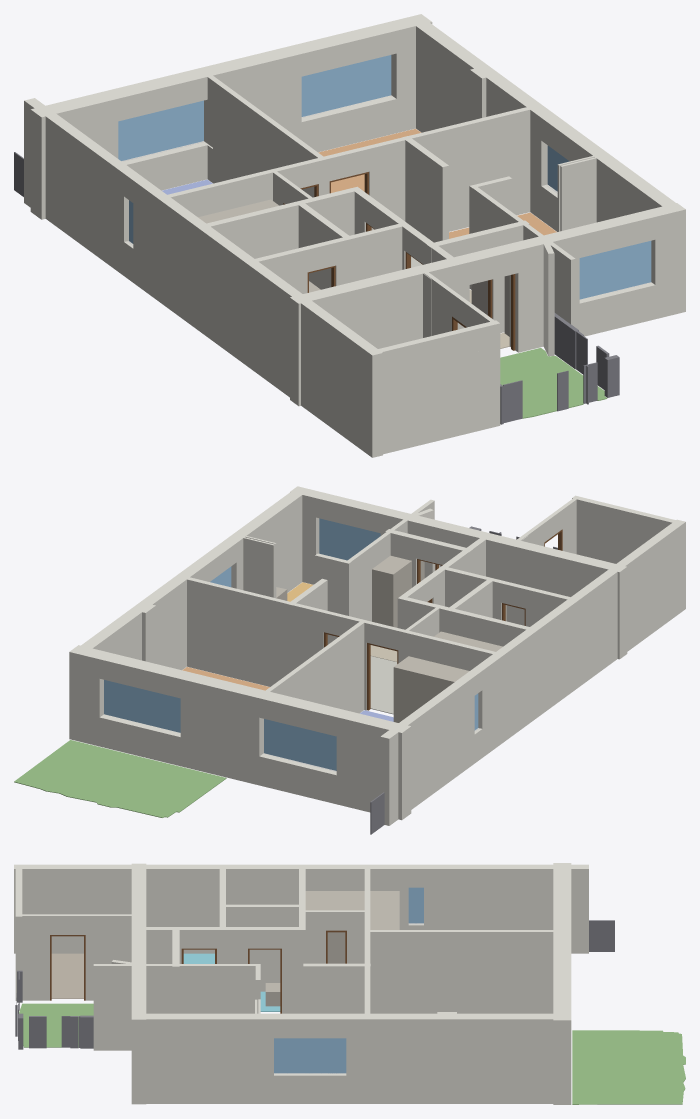
3 views of the same model, one above another, from view 1: azimuth 30°, elevation 25°; view 2: azimuth 150°, elevation 25°; view 3: azimuth 270°, elevation 25° (orthographic). The views are drawn at different scales.
Parts seen in each view (by area): view 1: walls, railings, window_3, floor_13_Outdoor, window_0, window_2, floor_1_Living_Room, furniture_1_closet; view 2: walls, floor_12_Outdoor, furniture_0_closet, window_3, window_0, furniture_2_closet, window_2, floor_3_Undefined, railings; view 3: walls, floor_12_Outdoor, railings, window_4, furniture_1_closet, floor_13_Outdoor, floor_11_Storage, furniture_0_closet, window_13, furniture_8_toilet.
Part boxes in pixels (x1,y1,x2,y2): walls: [24, 14, 685, 457]; railings: [14, 152, 619, 424]; window_3: [301, 55, 391, 116]; floor_13_Outdoor: [500, 348, 607, 418]; window_0: [118, 100, 203, 160]; window_2: [579, 241, 651, 299]; floor_1_Living_Room: [318, 128, 420, 192]; furniture_1_closet: [198, 199, 278, 223]; walls: [69, 486, 685, 825]; floor_12_Outdoor: [14, 740, 226, 817]; furniture_0_closet: [393, 656, 469, 722]; window_3: [104, 680, 180, 732]; window_0: [264, 719, 336, 770]; furniture_2_closet: [372, 555, 411, 627]; window_2: [319, 518, 380, 560]; floor_3_Undefined: [370, 656, 397, 714]; railings: [370, 526, 557, 834]; walls: [14, 863, 588, 1104]; floor_12_Outdoor: [572, 1030, 685, 1104]; railings: [15, 920, 614, 1049]; window_4: [274, 1038, 346, 1073]; furniture_1_closet: [305, 891, 364, 963]; floor_13_Outdoor: [19, 1003, 93, 1047]; floor_11_Storage: [51, 953, 83, 998]; furniture_0_closet: [370, 891, 399, 929]; window_13: [408, 887, 423, 923]; furniture_8_toilet: [265, 983, 280, 1006].
Size of the model in its own units: 10.78 by 2.72 by 19.45.
